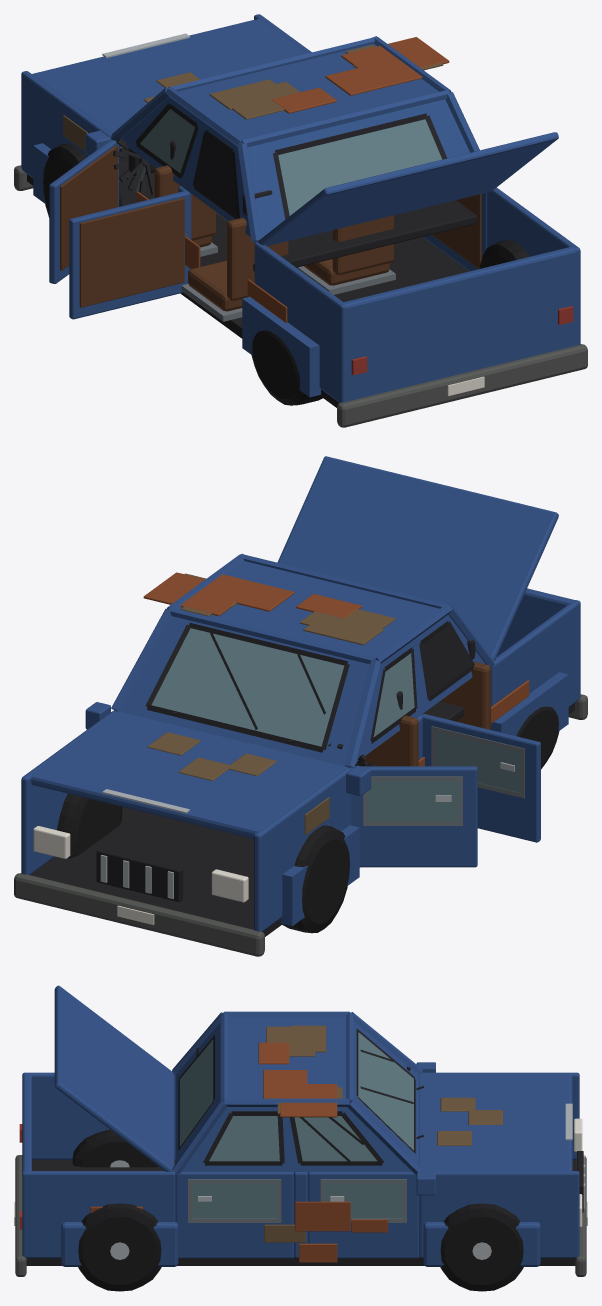
Rendered from car_jam_sedan.glb.
3 renders of one model, top to bottom at view 1: azimuth 30°, elevation 25°; view 2: azimuth 150°, elevation 25°; view 3: azimuth 270°, elevation 25°, orthographic. The views are drawn at different scales.
Parts seen in each view (by area): view 1: car_jam_sedan; view 2: car_jam_sedan; view 3: car_jam_sedan.
Part boxes in pixels (x1=…): car_jam_sedan: x1=14, y1=14, x2=587, y2=427; car_jam_sedan: x1=14, y1=456, x2=587, y2=956; car_jam_sedan: x1=14, y1=985, x2=587, y2=1291.
Size of what is drawn, in the model's own units: 2.67 by 1.62 by 4.12.
Materials: 2 (2 with a texture image).
